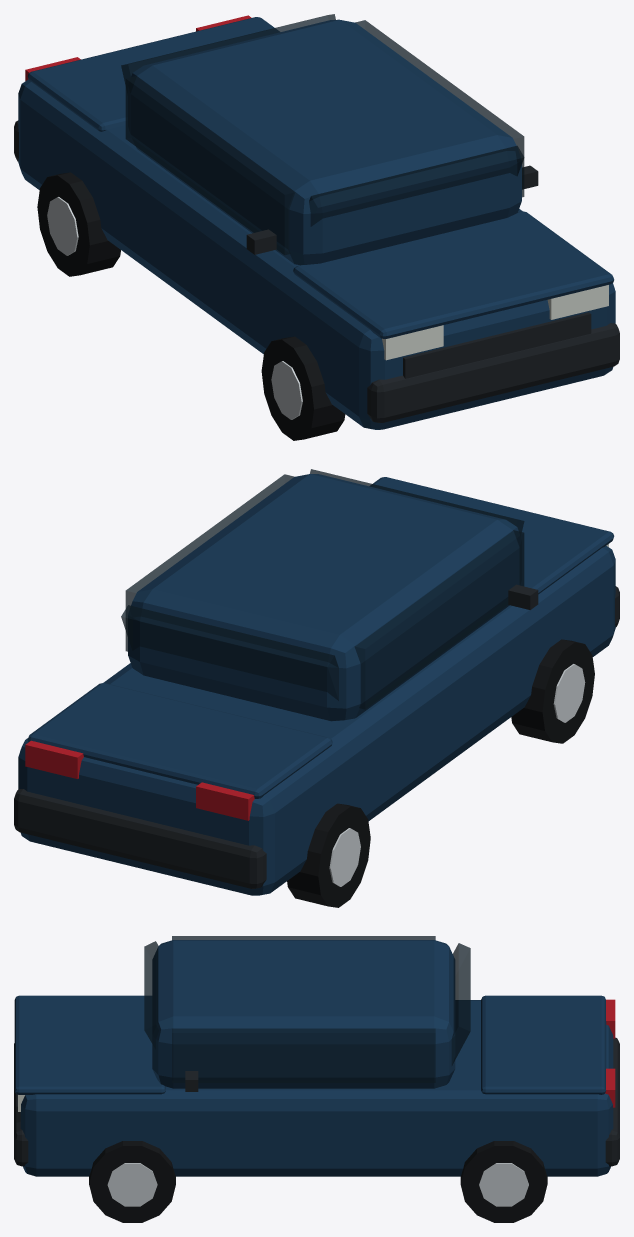
File: veh_sedan.glb
The picture shows the model from 3 angles, top to bottom: view 1: azimuth 30°, elevation 25°; view 2: azimuth 150°, elevation 25°; view 3: azimuth 270°, elevation 25°; orthographic projection. The views are drawn at different scales.
Visible parts, largest first — view 1: VEH_SEDAN; view 2: VEH_SEDAN; view 3: VEH_SEDAN.
Part boxes in pixels (x1,y1,x2,y2): VEH_SEDAN: (14,14,619,440); VEH_SEDAN: (14,469,619,907); VEH_SEDAN: (14,936,619,1222).
Bounding box in the file's own units: 2.06 × 1.57 × 4.6.
